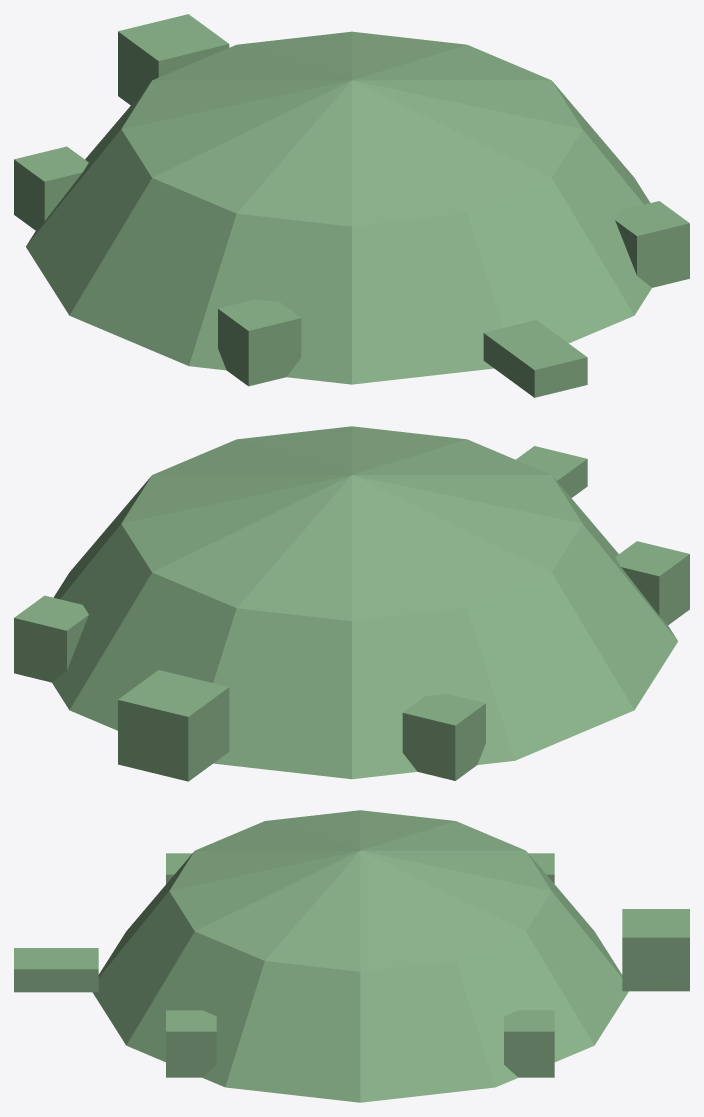
The model's file is turtle.gltf.
3 renders of one model, top to bottom at view 1: azimuth 30°, elevation 25°; view 2: azimuth 150°, elevation 25°; view 3: azimuth 270°, elevation 25°, orthographic. The views are drawn at different scales.
Visible parts, largest first — view 1: turtle; view 2: turtle; view 3: turtle.
Boxes of the visible parts, bbox=[...] form: turtle: bbox=[14, 14, 689, 397]; turtle: bbox=[14, 426, 689, 781]; turtle: bbox=[14, 810, 689, 1102].
Size of the model in its own units: 3.2 by 0.9 by 4.
